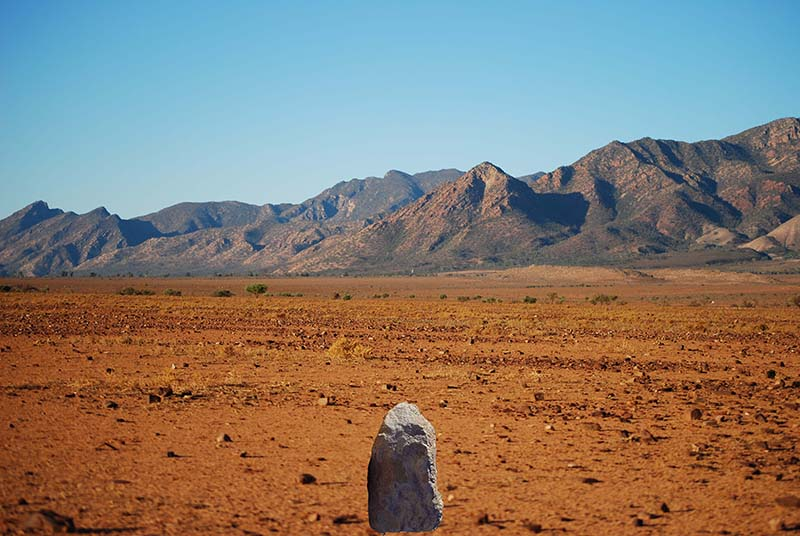Rocks: (361, 387, 452, 535)
